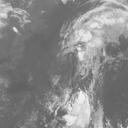cyclone: (47, 26, 109, 107)
